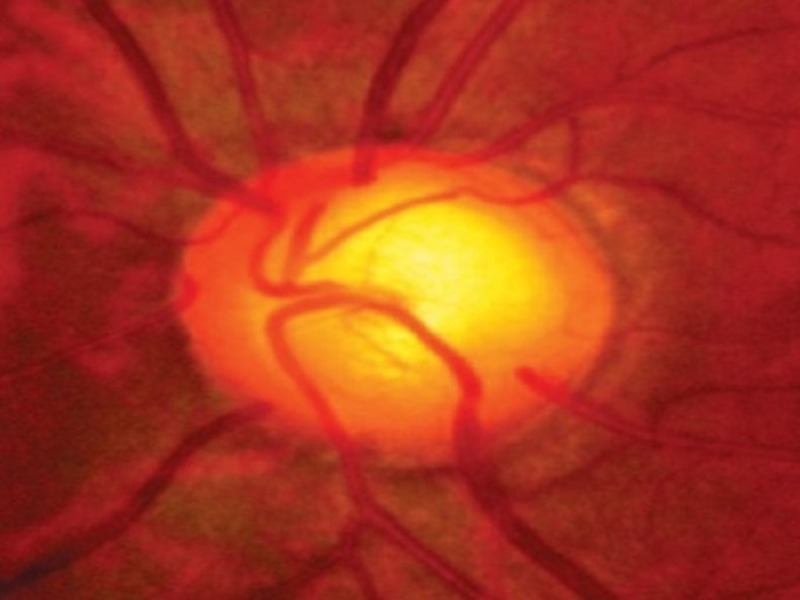Optic Cup: (353, 206, 541, 364)
Optic Disc: (166, 146, 636, 462)
